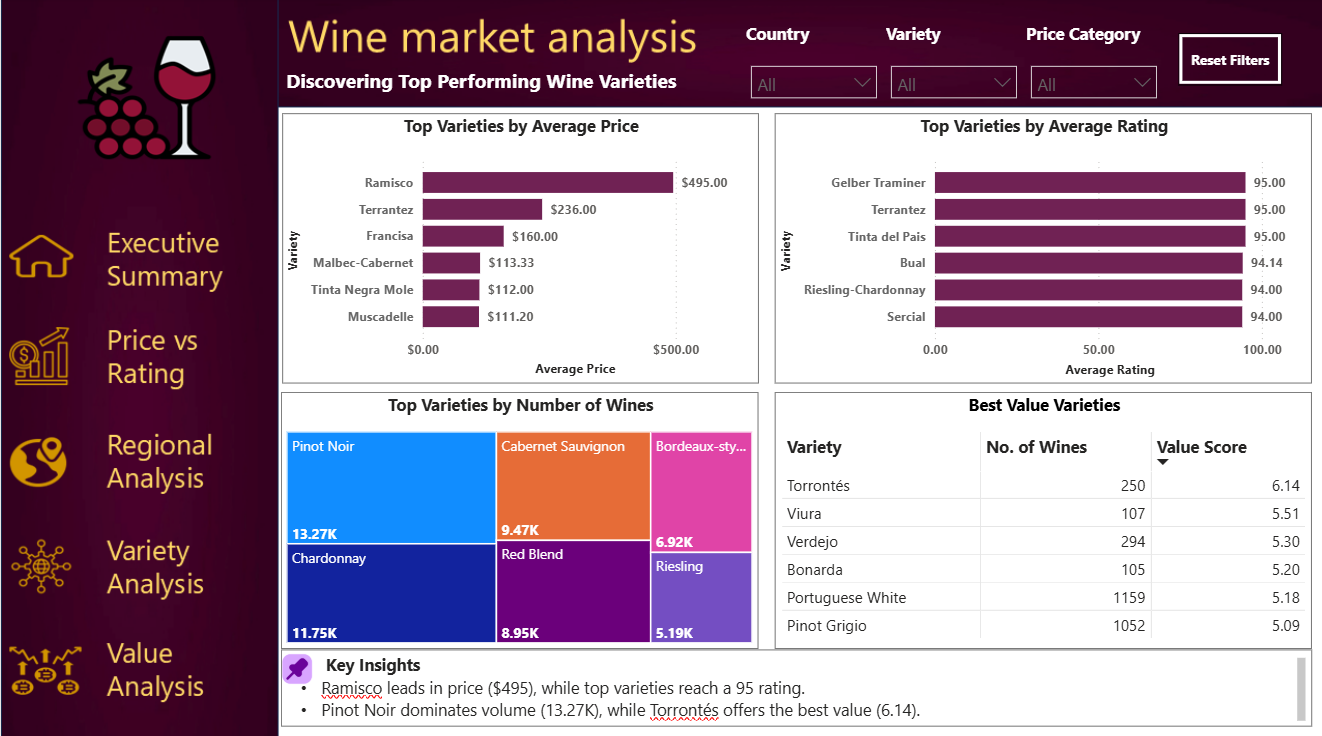

What the dashboard file says about the page in this screenshot:
{"tool":"powerbi","page":{"name":"Variety Analysis","canvas":[1280,720],"ordinal":3},"visuals":[{"type":"actionButton","title":"Reset Filters","box":[1136.7,34.8,100.2,50.1],"z":0},{"type":"slicer","title":"Country","fields":{"Values":["wine_data wine_insight.country"]},"box":[719,24.1,135.1,77.2],"z":1000},{"type":"slicer","title":"Variety","fields":{"Values":["wine_data wine_insight.variety"]},"box":[854.2,24.1,135.1,77.2],"z":2000},{"type":"slicer","title":"Price Category","fields":{"Values":["wine_data wine_insight.price_category"]},"box":[989.3,24.1,135.1,77.2],"z":3000},{"type":"clusteredBarChart","title":"Top  Varieties by Average Rating","fields":{"Category":["wine_data wine_insight.variety"],"Y":["Avg(wine_data wine_insight.points)"]},"box":[746.5,112.5,518.7,260.7],"z":4000},{"type":"clusteredBarChart","title":" Top Varieties by Average  Price","fields":{"Y":["Avg(wine_data wine_insight.price)"],"Category":["wine_data wine_insight.variety"]},"box":[271.4,112.2,459.7,260.6],"z":5000},{"type":"treemap","title":"Top Varieties by Number of Wines","fields":{"Group":["wine_data wine_insight.variety"],"Values":["CountNonNull(wine_data wine_insight.id)"]},"box":[270.3,381.5,459.7,248.4],"z":6000},{"type":"tableEx","title":"Best Value Varieties","fields":{"Values":["wine_data wine_insight.variety","wine_data wine_insight.Value_Scored"]},"box":[746.5,381.5,518.7,248.4],"z":7000},{"type":"textbox","box":[270.3,63.1,414.4,38.4],"z":8000},{"type":"textbox","box":[270.2,629.8,995.3,74.8],"z":9000},{"type":"image","box":[270.2,629.8,31.4,37.4],"z":10000},{"type":"actionButton","box":[0,306.1,268.5,80.7],"z":10001},{"type":"actionButton","box":[0,403.5,268.5,80.7],"z":10002},{"type":"actionButton","box":[0,512,268.5,80.7],"z":10003},{"type":"actionButton","box":[0,610.8,268.5,80.7],"z":10004},{"type":"actionButton","box":[0,214.3,268.5,80.7],"z":10005}]}

Visuals, with their boxes in screenshot pixels (x1, y1, x2, y2), scaled from the page's 1280x720 canvas onto the 1322x736 screenshot:
"Reset Filters" actionButton: 1174 36 1277 87
"Country" slicer: 743 25 882 104
"Variety" slicer: 882 25 1022 104
"Price Category" slicer: 1022 25 1161 104
"Top  Varieties by Average Rating" clusteredBarChart: 771 115 1307 381
" Top Varieties by Average  Price" clusteredBarChart: 280 115 755 381
"Top Varieties by Number of Wines" treemap: 279 390 754 644
"Best Value Varieties" tableEx: 771 390 1307 644
textbox: 279 65 707 104
textbox: 279 644 1307 720
image: 279 644 311 682
actionButton: 0 313 277 395
actionButton: 0 412 277 495
actionButton: 0 523 277 606
actionButton: 0 624 277 707
actionButton: 0 219 277 302
